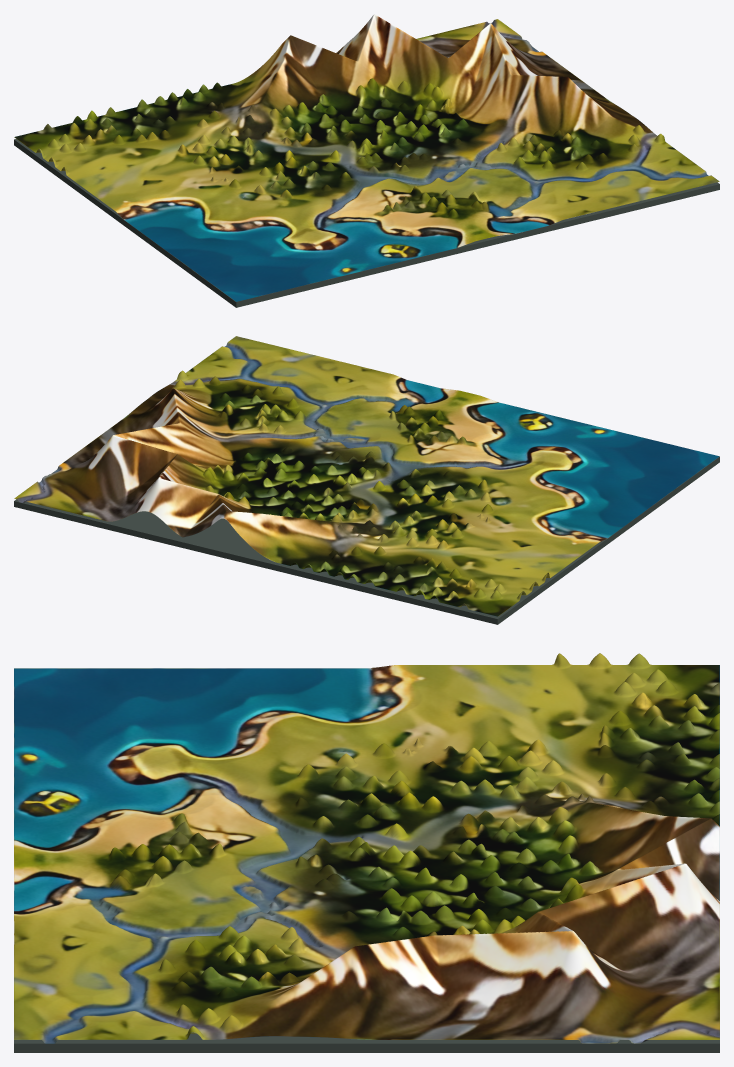
The model's file is ScreenRelief.fbx.
The picture shows the model from 3 angles, top to bottom: view 1: azimuth 30°, elevation 25°; view 2: azimuth 150°, elevation 25°; view 3: azimuth 270°, elevation 25°; orthographic projection. The views are drawn at different scales.
Visible parts, largest first — view 1: ScreenRelief_Mountains_Forest_Riverbeds, Review_Tile_Base; view 2: ScreenRelief_Mountains_Forest_Riverbeds, Review_Tile_Base; view 3: ScreenRelief_Mountains_Forest_Riverbeds, Review_Tile_Base.
Part boxes in pixels (x1,y1,x2,y2): ScreenRelief_Mountains_Forest_Riverbeds: [14, 14, 719, 301]; Review_Tile_Base: [14, 139, 719, 307]; ScreenRelief_Mountains_Forest_Riverbeds: [14, 336, 719, 616]; Review_Tile_Base: [14, 456, 719, 624]; ScreenRelief_Mountains_Forest_Riverbeds: [14, 653, 719, 1043]; Review_Tile_Base: [14, 1033, 719, 1052].
Size of the model in its own units: 17600 by 1869 by 14000.
Materials: 2 (1 with a texture image).
